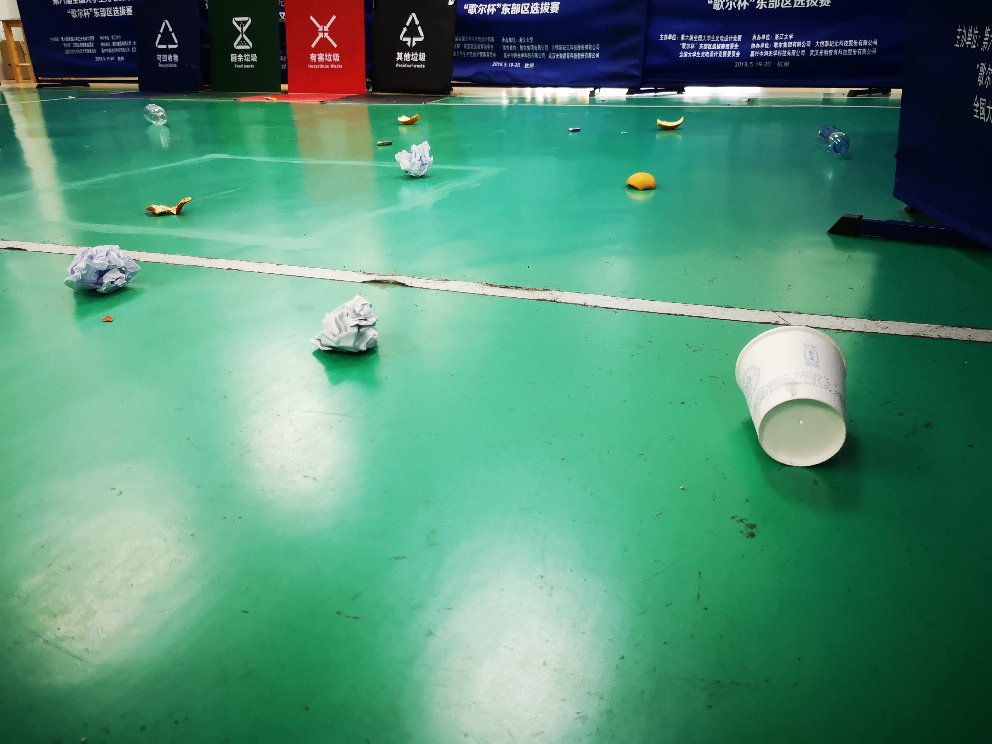battery: (372, 135, 399, 150), (561, 121, 586, 136)
bottle: (813, 120, 853, 159), (138, 101, 170, 127)
orangepeel: (140, 187, 198, 226), (621, 167, 661, 196), (649, 112, 691, 135), (393, 109, 420, 129)
papercup: (730, 323, 853, 468)
spitball: (311, 294, 382, 359), (64, 242, 137, 300), (394, 141, 434, 179)
